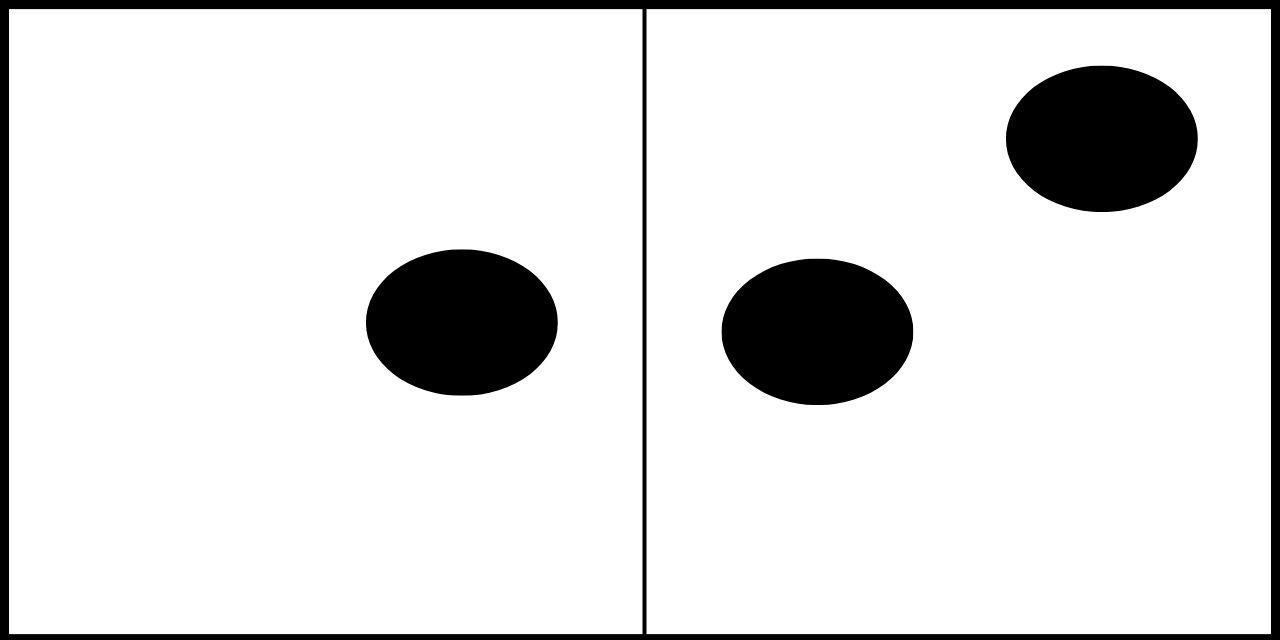dot_5: (85, 65, 558, 587)
two_cell_alphabet_isip: (721, 65, 1199, 589)
